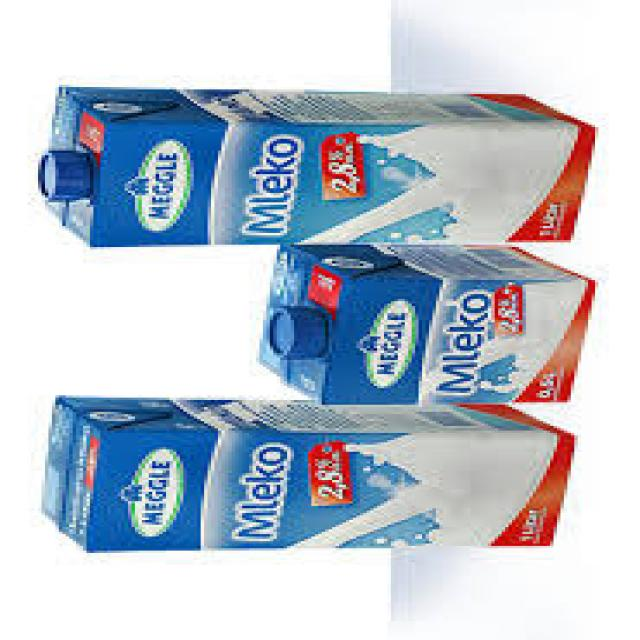non_white_jug: (26, 81, 602, 247), (25, 390, 575, 552), (261, 242, 605, 408)
